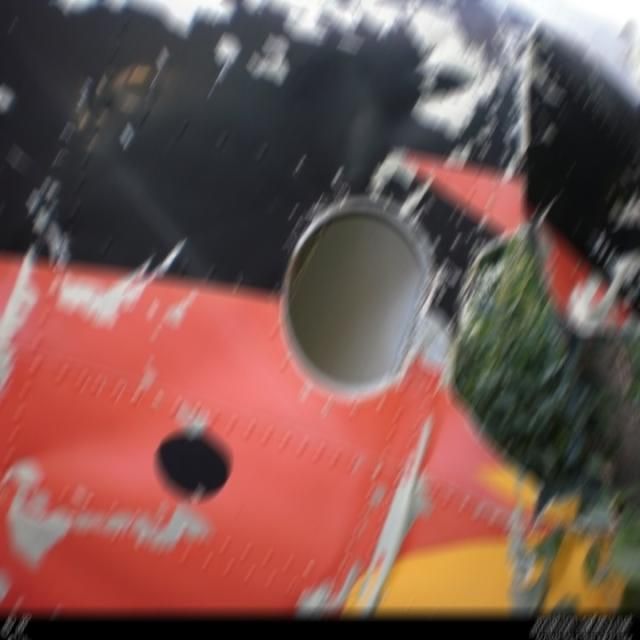dent: (30, 439, 156, 488), (329, 100, 380, 175)
